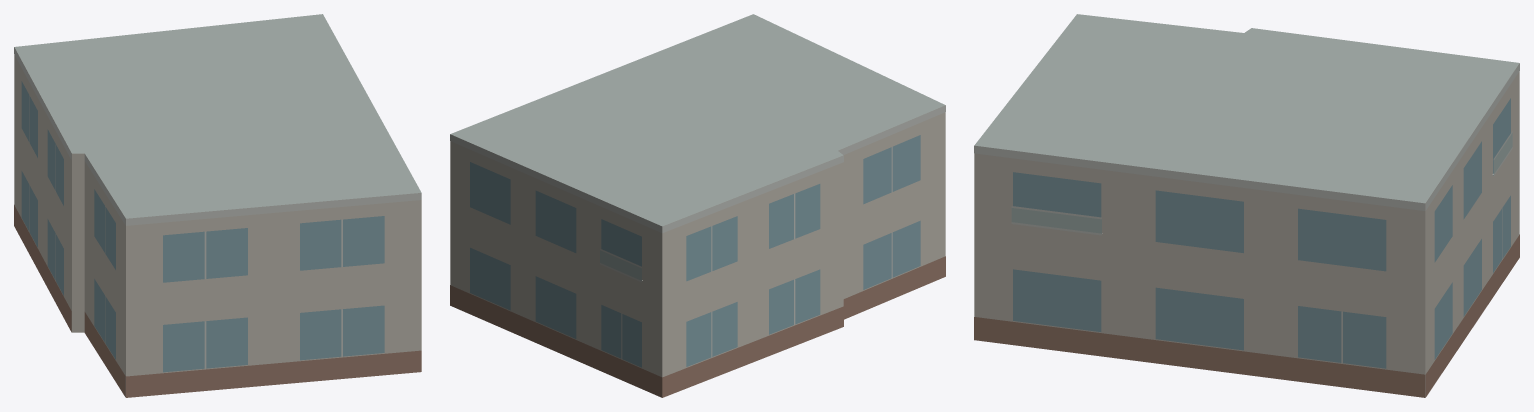
Rendered from survey-upis-32824557.glb.
3 views of the same model, side by side, from view 1: azimuth 30°, elevation 25°; view 2: azimuth 150°, elevation 25°; view 3: azimuth 270°, elevation 25° (orthographic). The views are drawn at different scales.
Parts seen in each view (by area): view 1: survey-upis-32824557.tmp; view 2: survey-upis-32824557.tmp; view 3: survey-upis-32824557.tmp.
Boxes of the visible parts, left/top/right/bottom form: survey-upis-32824557.tmp: left=14, top=14, right=421, bottom=397; survey-upis-32824557.tmp: left=450, top=14, right=945, bottom=397; survey-upis-32824557.tmp: left=974, top=14, right=1519, bottom=397.
Bounding box in the file's own units: 12.75 × 6.1 × 15.52.
